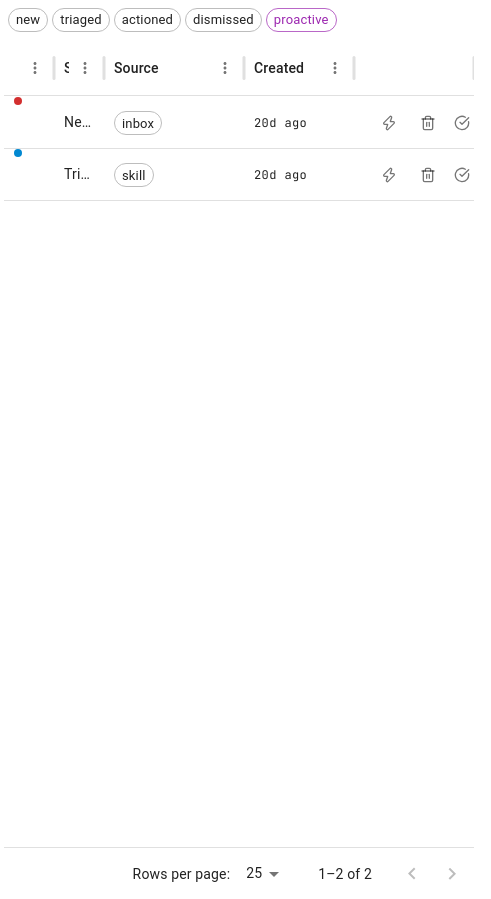
Test: FeedInboxSection › re-clicking an active status chip clears the filter
Expected: the button "New one" is shown, [64,114,104,130]
Click the button "triaged" at (81, 20), box [52,8,110,32]
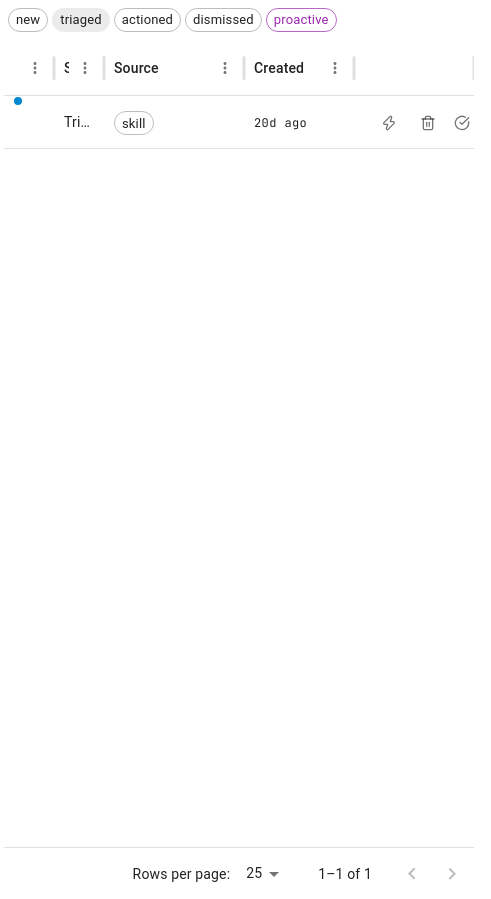
Now the button "New one" is gone
Click the button "triaged" at (81, 20), box [52,8,110,32]
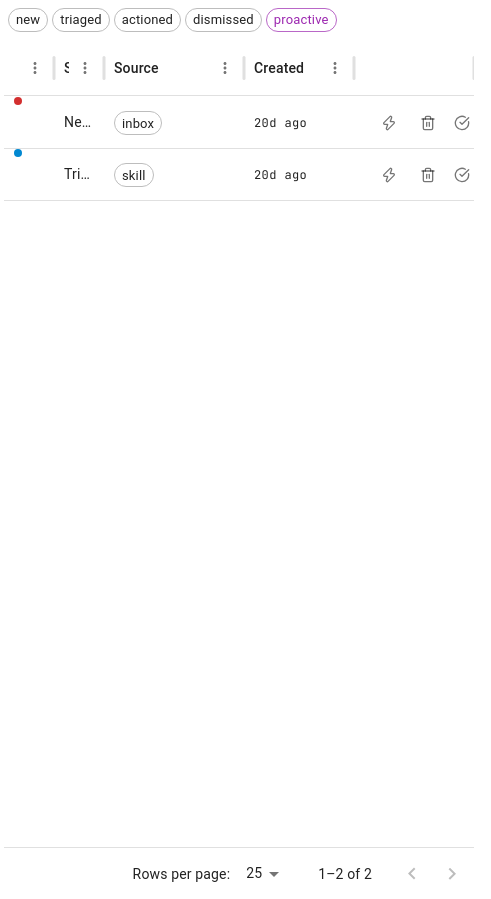
Now the button "New one" is shown, box [64,114,104,130]
